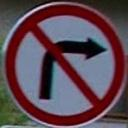NoVirarDireita: (2, 0, 128, 125)
